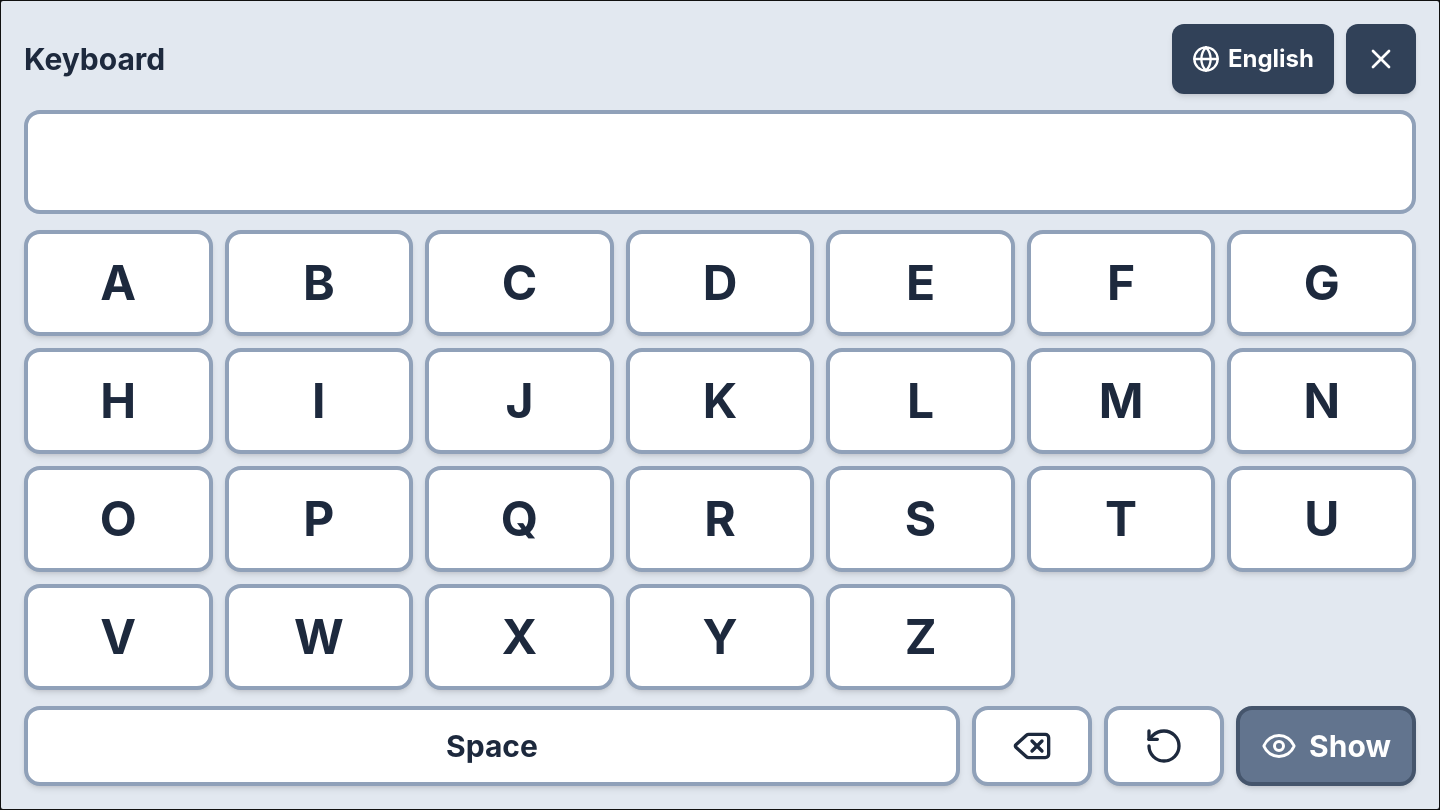
Scenario: KeyboardScreen – User Story 3: language switcher › selecting a language closes the listbox
Click the button with aria-label "change language" at (1253, 59), box [1172,24,1334,94]
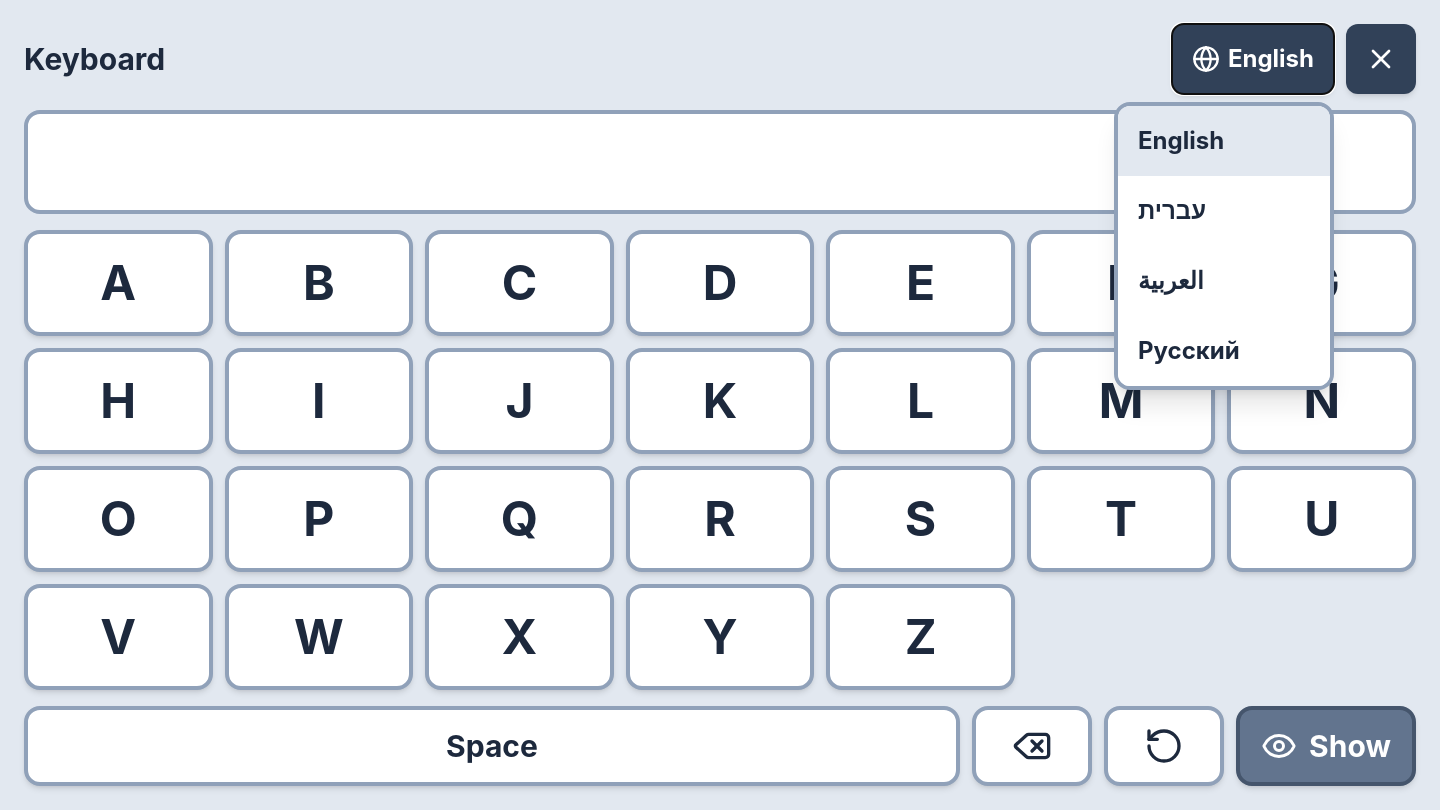
expect the list is shown: met, box [1114,102,1334,390]
Click the option "Русский" at (1224, 351), box [1118,316,1330,386]
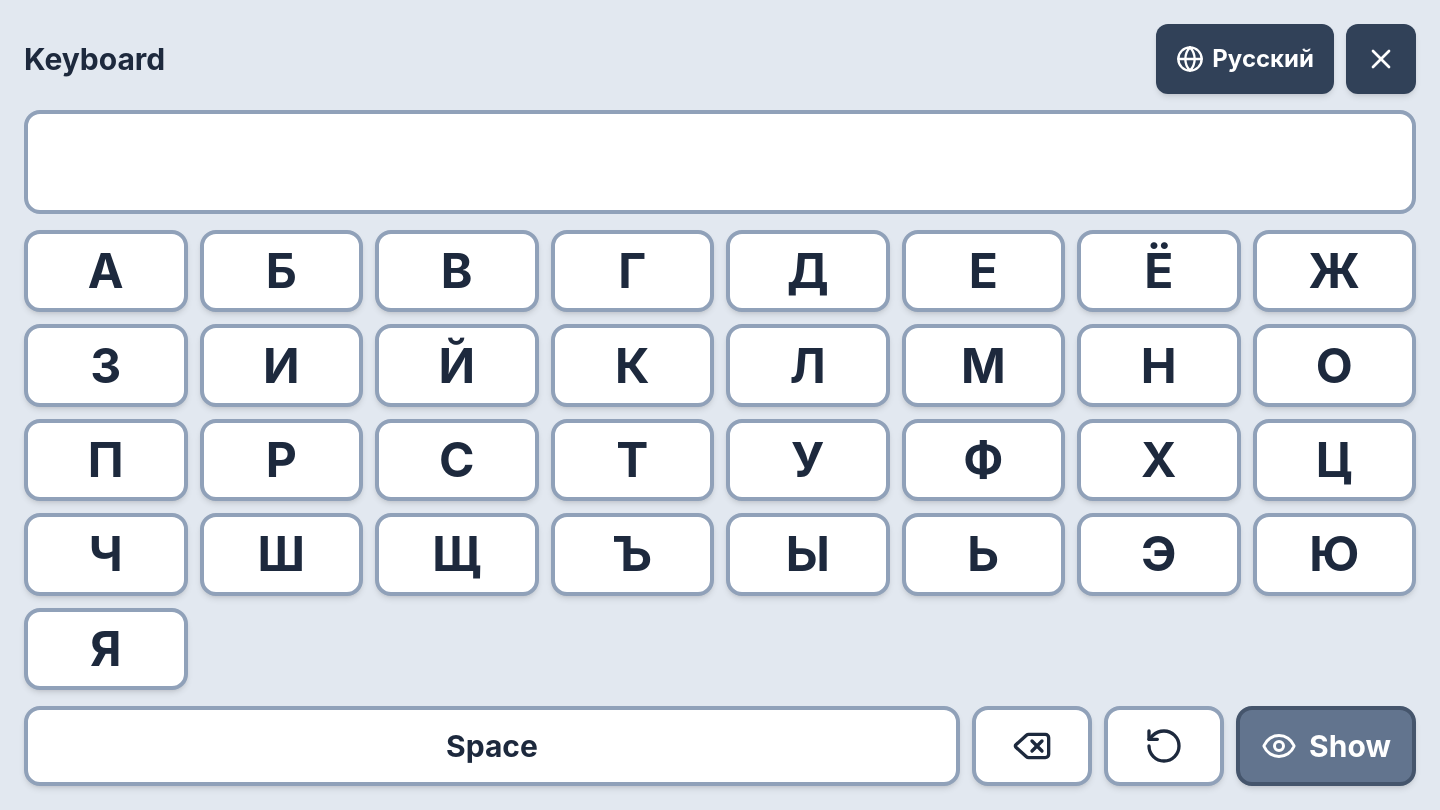
expect the list is gone: met
